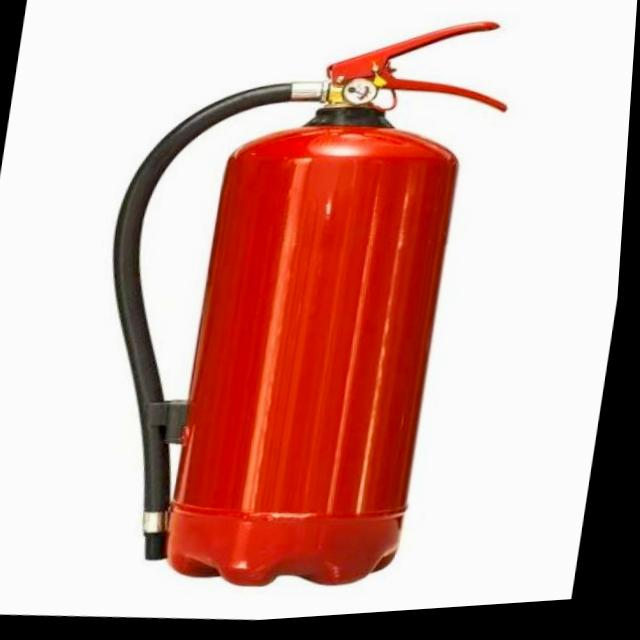FireExtinguisher: (59, 0, 532, 622)
